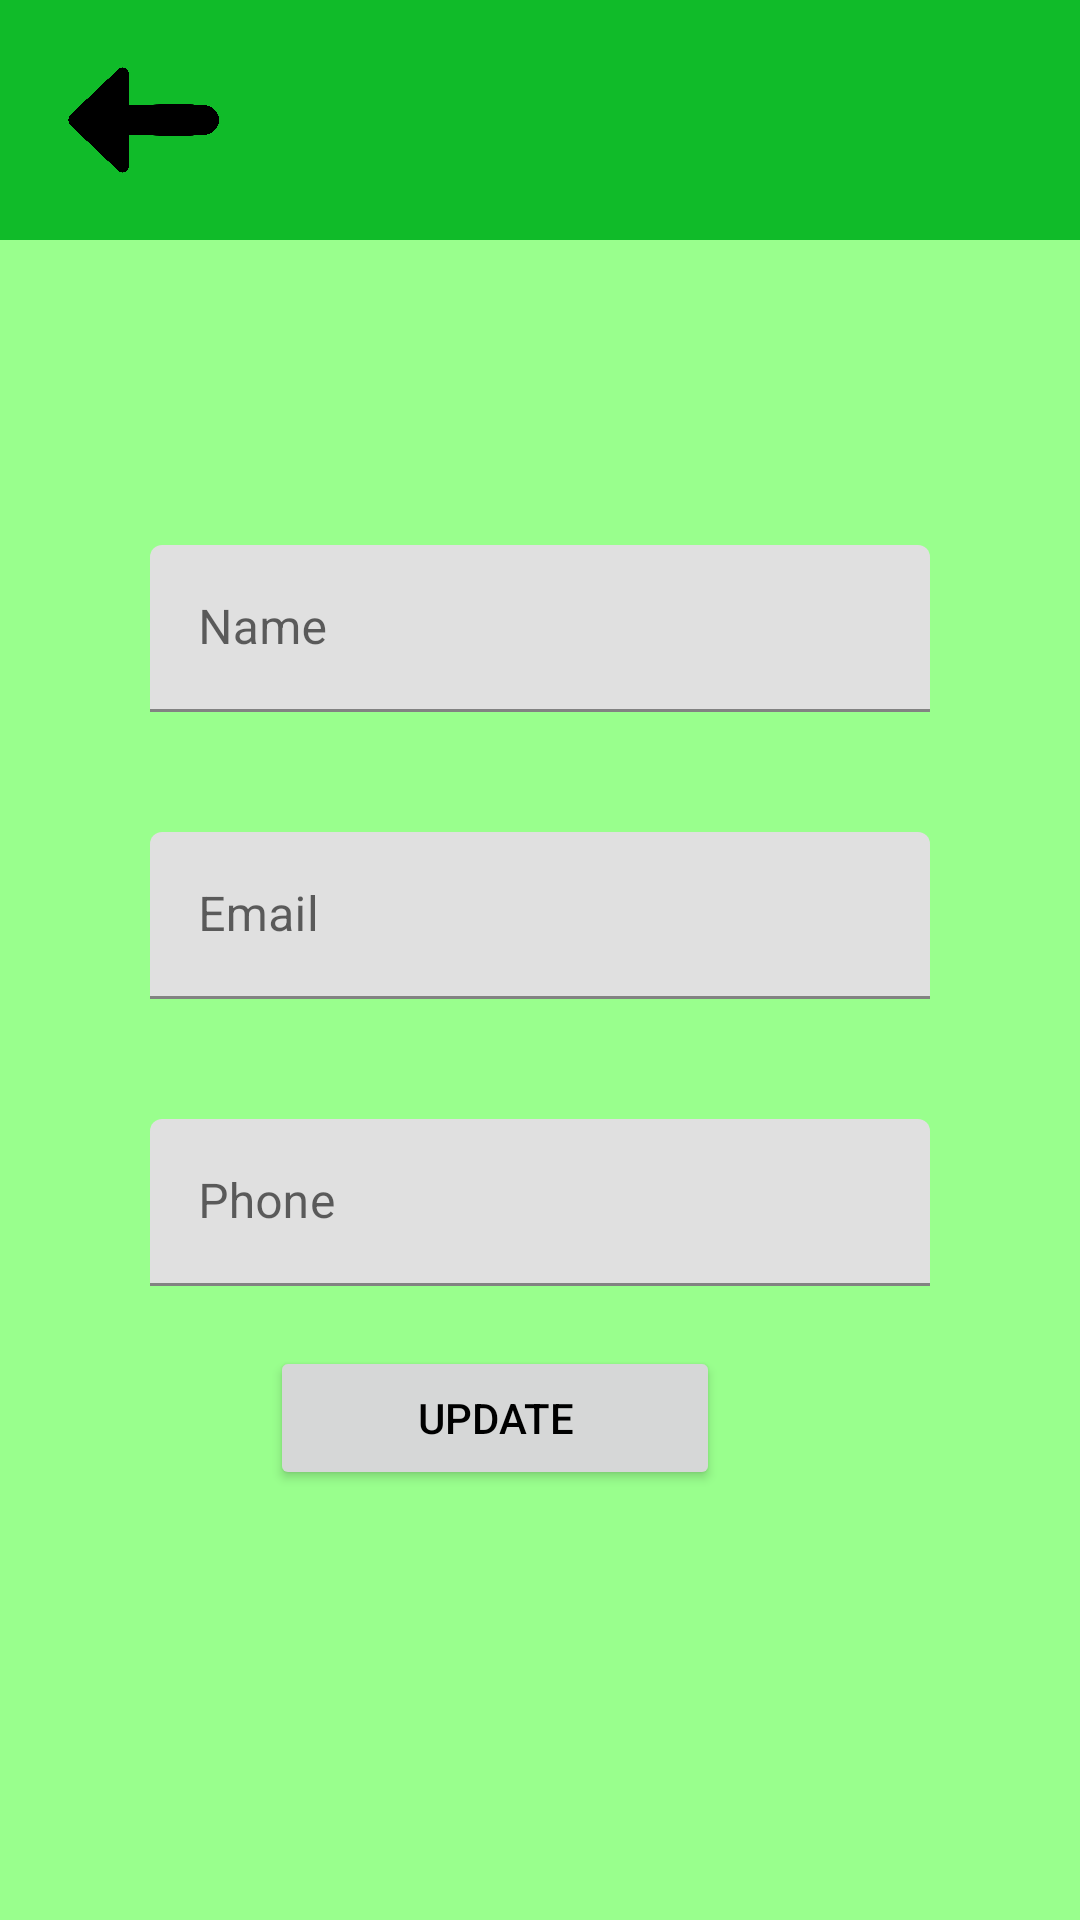

Icons on this 1080x1920 Android screen, each with the point to tap as (x=x, y=y):
back arrow: (x=143, y=120)
